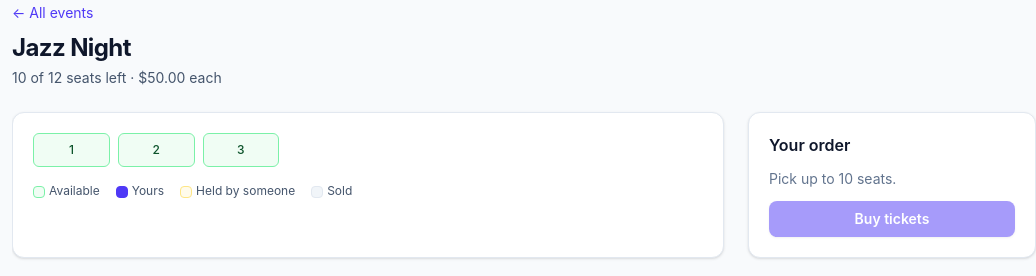
Test case: EventPage › lets a seat be deselected
Click the button named "Seat 1, available" at (71, 150), box x1=33 y1=133 x2=110 y2=167
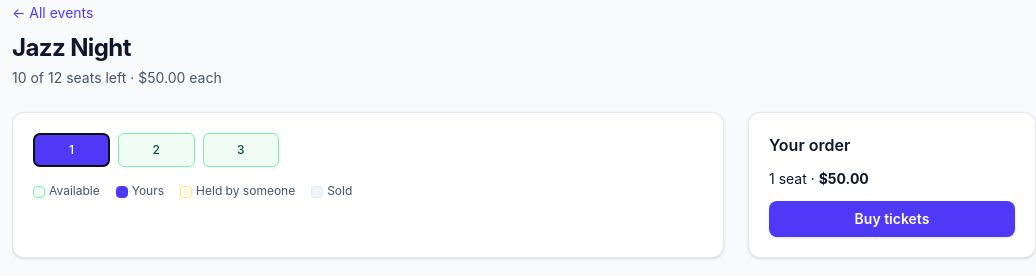
Click the button named "Seat 1, available" at (71, 150), box x1=33 y1=133 x2=110 y2=167
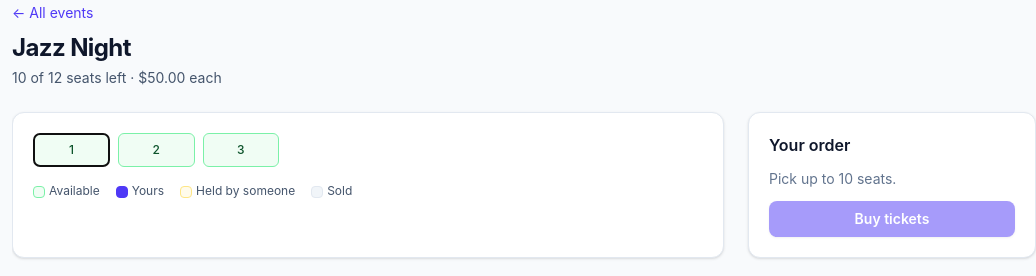
Check: the text "Pick up to 10 seats." is shown, box x1=769 y1=170 x2=896 y2=187
Check: the button "Buy tickets" is disabled, box x1=769 y1=201 x2=1015 y2=237
